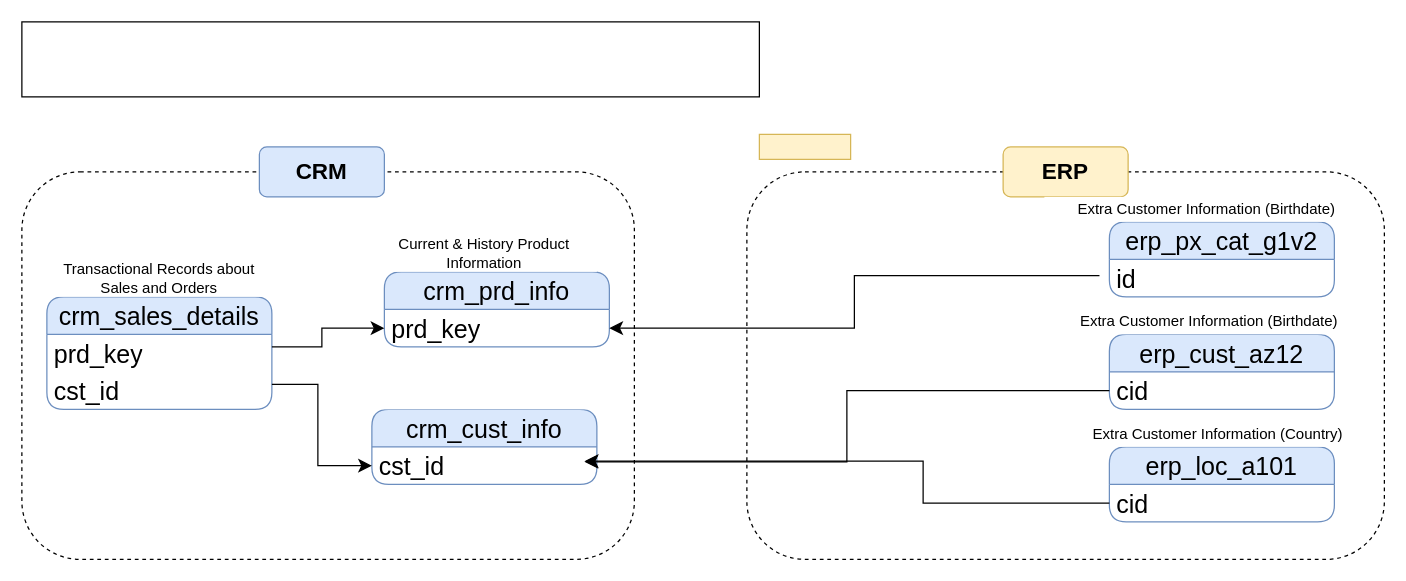
This 1406x581 diagram has some shape labels left out. Each missing label, with the centre of its shape:
A01: (804,146)
Customer Information: (483,396)
Integration Model: How we are relating the tables: (390,59)
